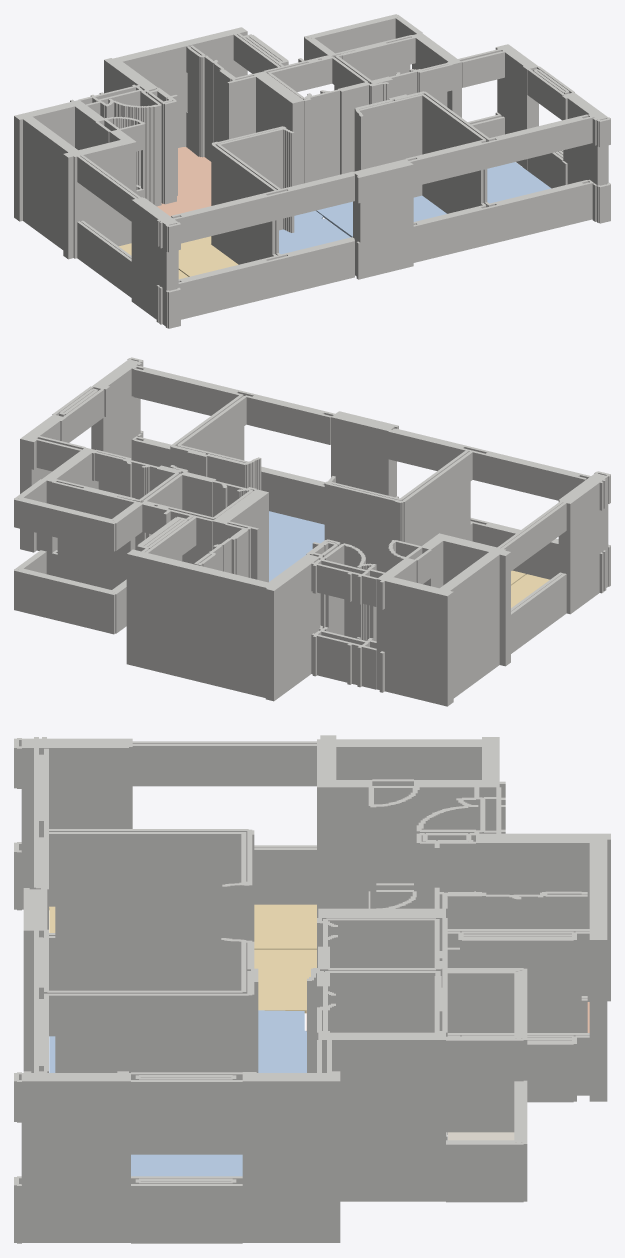
The picture shows the model from 3 angles, top to bottom: view 1: azimuth 30°, elevation 25°; view 2: azimuth 150°, elevation 25°; view 3: azimuth 270°, elevation 25°; orthographic projection. The views are drawn at different scales.
Visible parts, largest first — view 1: walls, room:kitchen:10, room:bedroom:6, room:bedroom:8, room:living:5, room:bedroom:7; view 2: walls, room:bedroom:7, room:living:4; view 3: walls, room:living:5, room:bedroom:6, room:living:4, room:bedroom:8.
Boxes of the visible parts, bbox=[...] form: walls: bbox=[14, 14, 610, 328]; room:kitchen:10: bbox=[157, 147, 211, 216]; room:bedroom:6: bbox=[279, 210, 350, 254]; room:bedroom:8: bbox=[487, 162, 550, 203]; room:living:5: bbox=[178, 236, 238, 276]; room:bedroom:7: bbox=[316, 195, 446, 237]; walls: bbox=[14, 357, 610, 706]; room:bedroom:7: bbox=[269, 511, 324, 581]; room:living:4: bbox=[511, 574, 549, 607]; walls: bbox=[14, 735, 610, 1243]; room:living:5: bbox=[254, 949, 316, 1013]; room:bedroom:6: bbox=[49, 1010, 306, 1072]; room:living:4: bbox=[49, 904, 316, 949]; room:bedroom:8: bbox=[131, 1154, 242, 1176].
Bounding box in the file's own units: 12.88 × 2.8 × 9.37.
